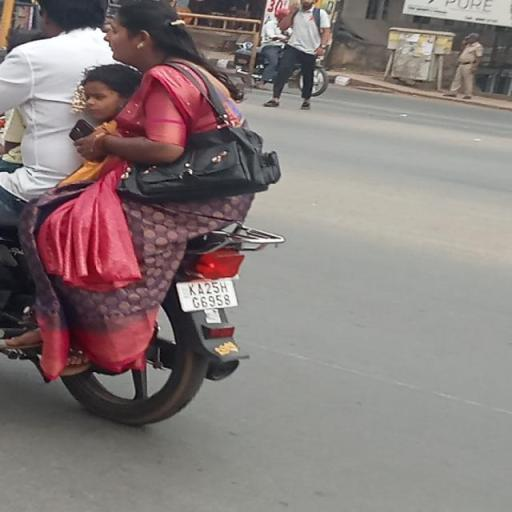bike: (8, 0, 282, 433)
numberplate: (170, 275, 243, 315)
withouthelmet: (111, 2, 180, 67), (32, 0, 106, 23)
